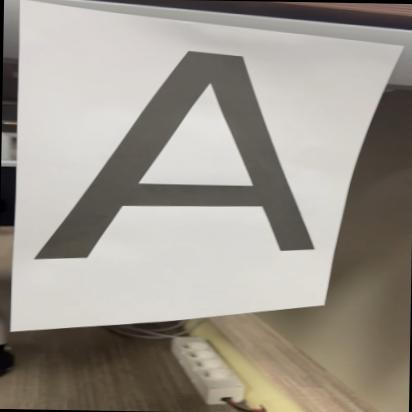seat: (34, 40, 332, 272)
